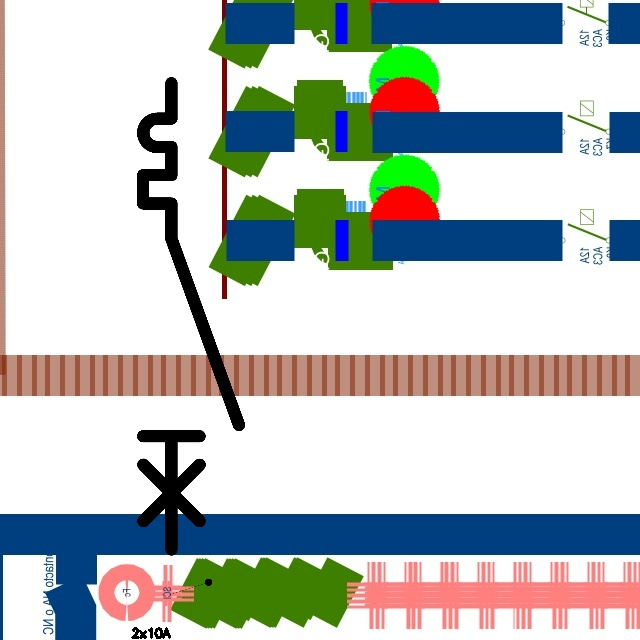interruptor_termomagnetico: (131, 71, 251, 562)
